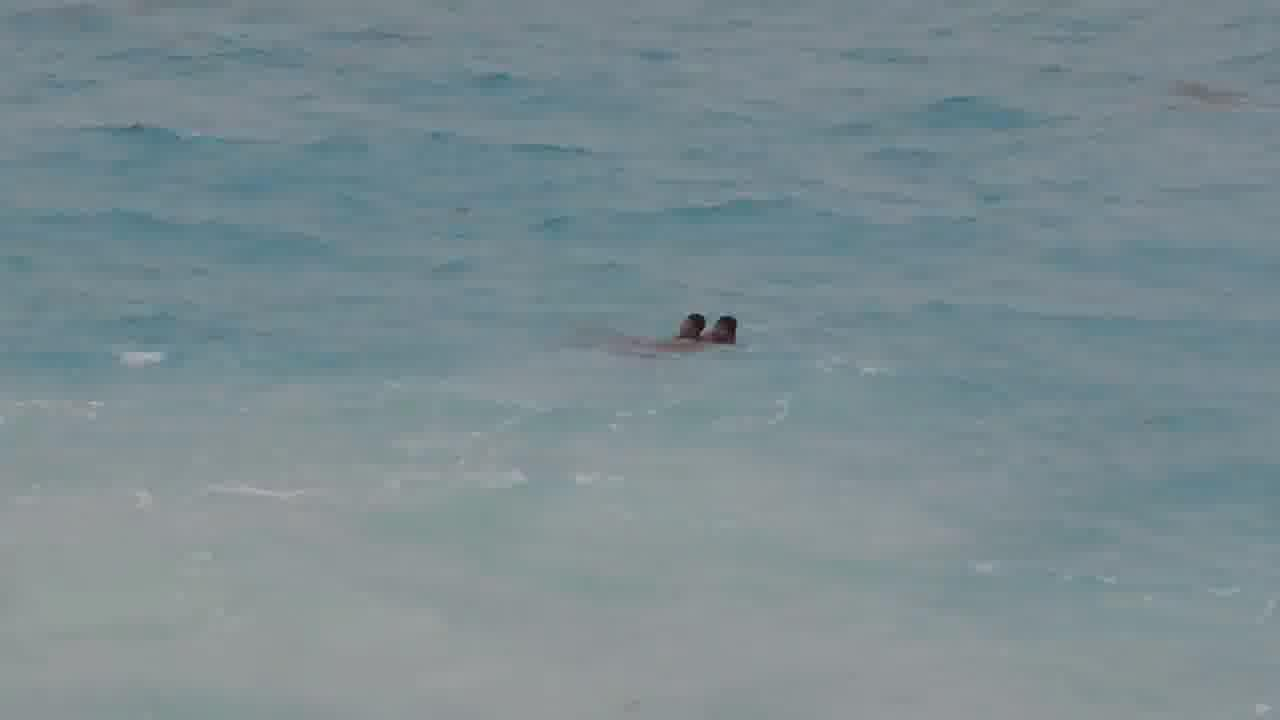swimmer: (617, 298, 709, 356), (699, 308, 758, 351)
